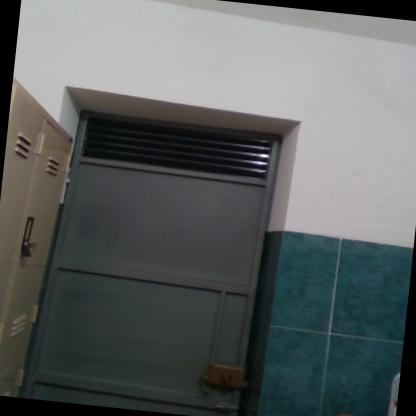closed: (8, 59, 324, 415)
